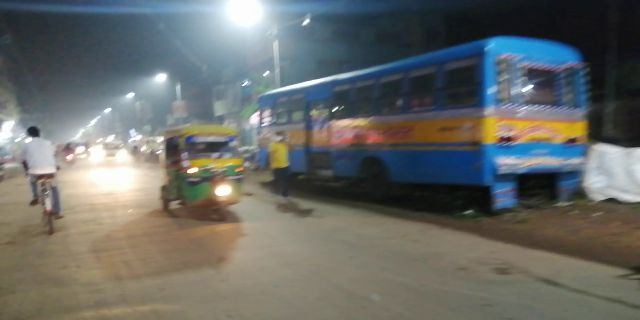Autorickshaw: (156, 122, 252, 224)
Bus: (252, 34, 611, 201)
Cycle: (17, 126, 67, 237)
